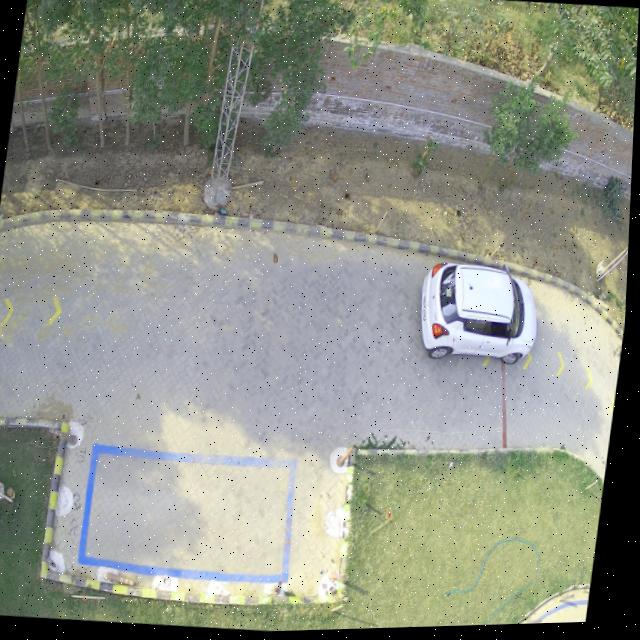car: (423, 264, 540, 368)
